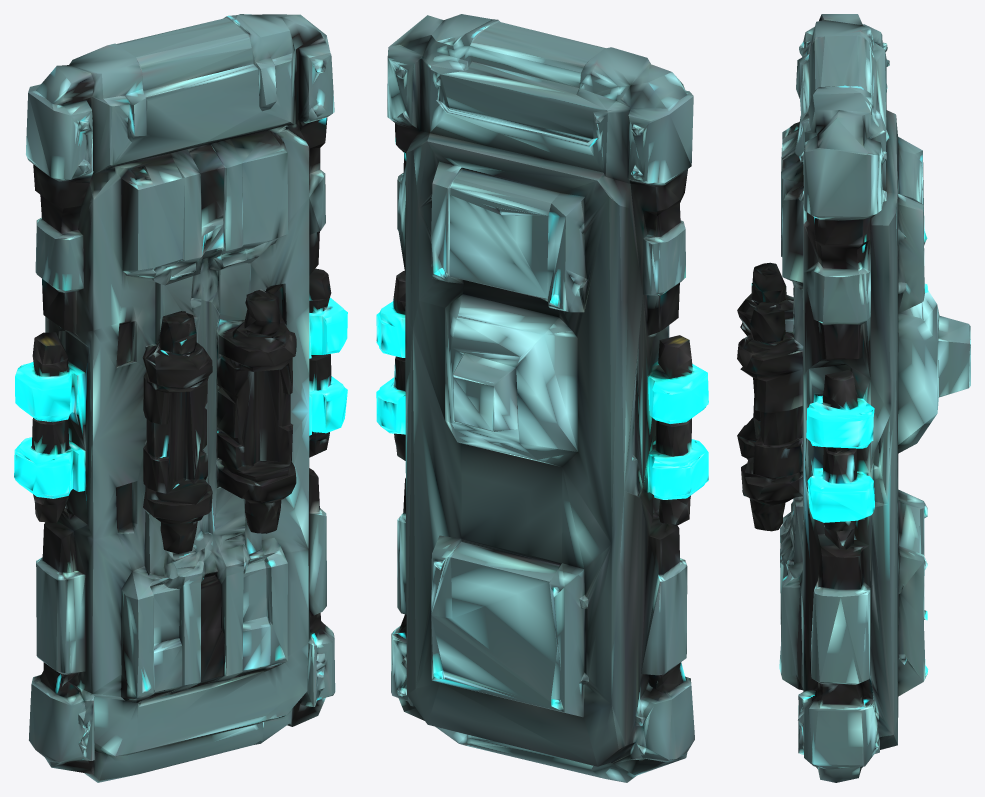
Rendered from obj_restraint_v1.glb.
3 renders of one model, left to right at view 1: azimuth 30°, elevation 25°; view 2: azimuth 150°, elevation 25°; view 3: azimuth 270°, elevation 25°, orthographic. The views are drawn at different scales.
Size of the model in its own units: 0.7356 by 1.6 by 0.5009.
Materials: 1 (1 with a texture image).
